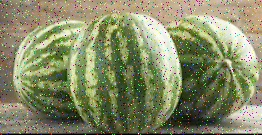watermelon: (70, 9, 181, 131), (14, 14, 96, 123), (180, 16, 259, 127)
